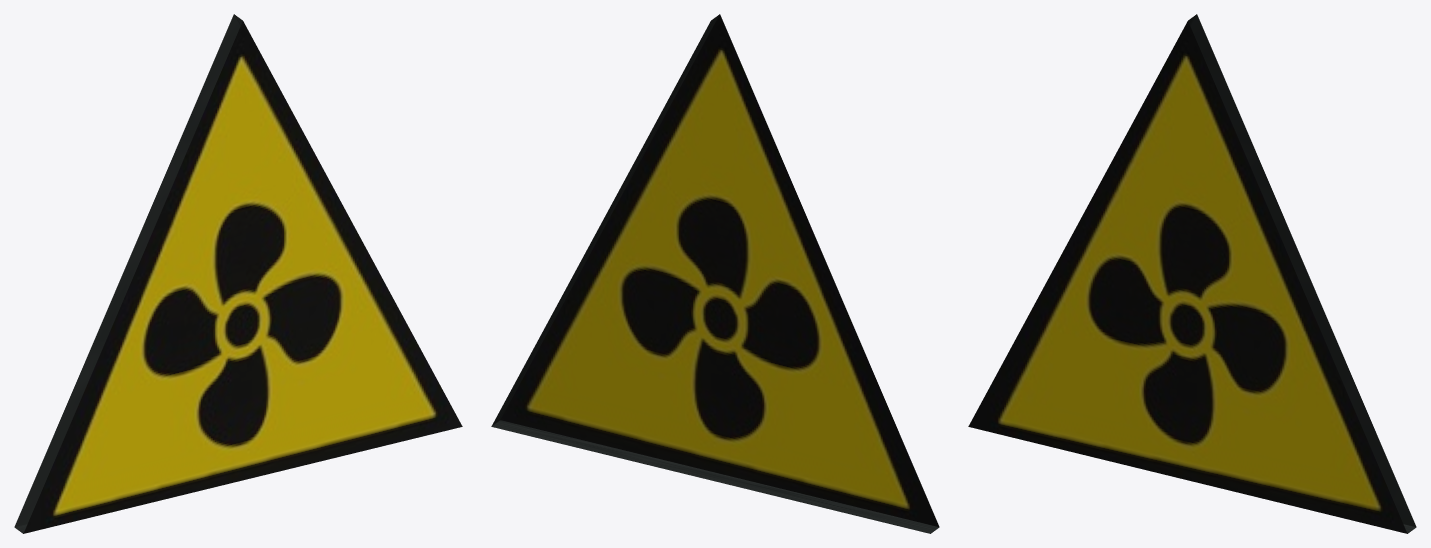
File: cartel_ventilador.glb
The picture shows the model from 3 angles, left to right: view 1: azimuth 30°, elevation 25°; view 2: azimuth 150°, elevation 25°; view 3: azimuth 330°, elevation 25°; orthographic projection.
Visible parts, largest first — view 1: Cube; view 2: Cube; view 3: Cube.
Part boxes in pixels (x1,y1,x2,y2): Cube: (14, 14, 462, 533); Cube: (491, 14, 939, 533); Cube: (968, 14, 1416, 533).
Bounding box in the file's own units: 2 × 2 × 0.0717.
Materials: 2 (2 with a texture image).
